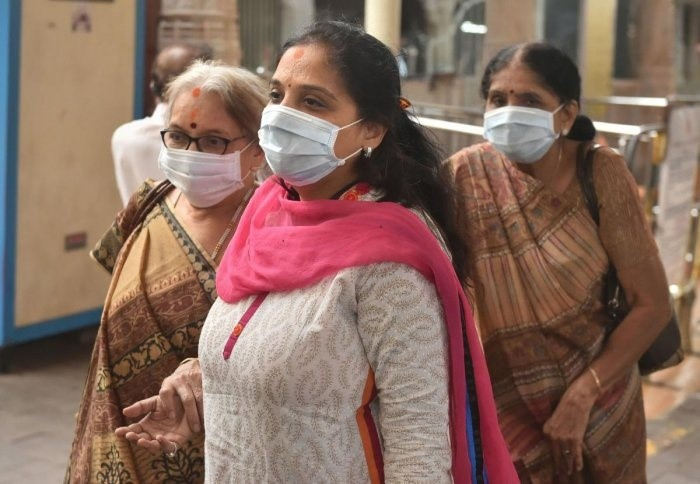face_with_mask: (250, 31, 393, 197), (148, 70, 261, 229), (474, 73, 566, 176)
